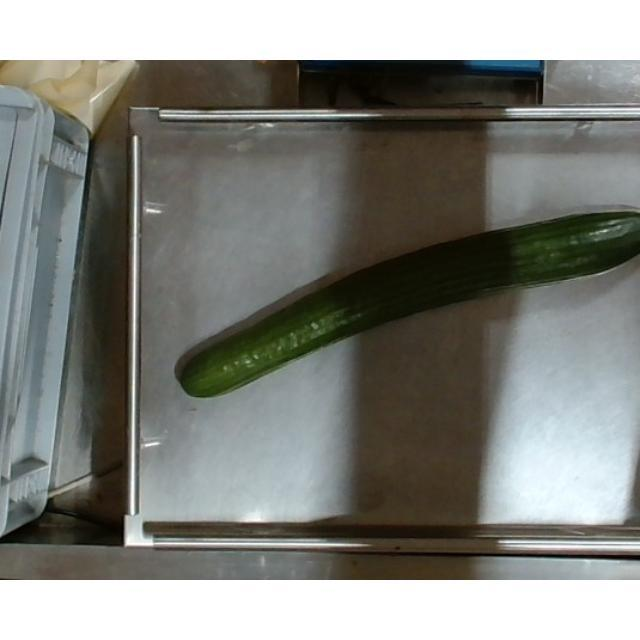cucumber: (178, 212, 640, 400)
